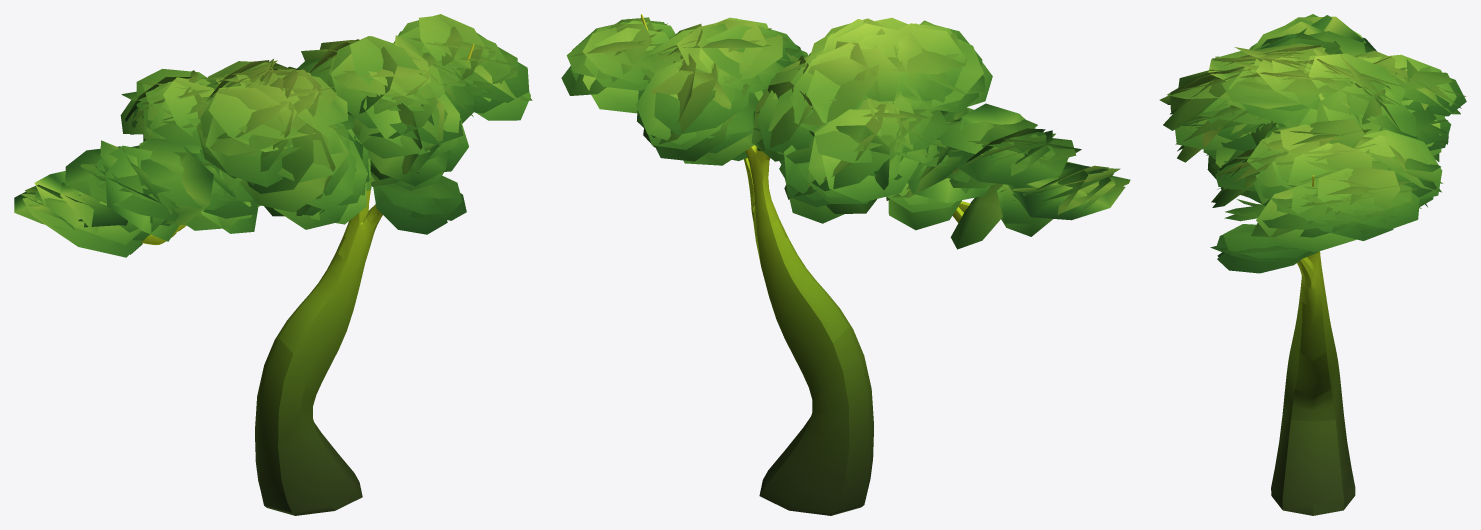
File: Bird Tree.fbx
The picture shows the model from 3 angles, left to right: view 1: azimuth 30°, elevation 25°; view 2: azimuth 150°, elevation 25°; view 3: azimuth 270°, elevation 25°; orthographic projection. The views are drawn at different scales.
Visible parts, largest first — view 1: SCARLET_MAPLE_TREE:Plane_237, SCARLET_MAPLE_TREE:Plane_259_2_0; view 2: SCARLET_MAPLE_TREE:Plane_237, SCARLET_MAPLE_TREE:Plane_259_2_0; view 3: SCARLET_MAPLE_TREE:Plane_237, SCARLET_MAPLE_TREE:Plane_259_2_0.
Part boxes in pixels (x1,y1,x2,y2): SCARLET_MAPLE_TREE:Plane_237: (14, 14, 532, 257); SCARLET_MAPLE_TREE:Plane_259_2_0: (141, 43, 474, 515); SCARLET_MAPLE_TREE:Plane_237: (561, 17, 1130, 249); SCARLET_MAPLE_TREE:Plane_259_2_0: (640, 14, 970, 515); SCARLET_MAPLE_TREE:Plane_237: (1159, 14, 1466, 273); SCARLET_MAPLE_TREE:Plane_259_2_0: (1271, 175, 1355, 515).
Size of the model in its own units: 133 by 111 by 73.54.
